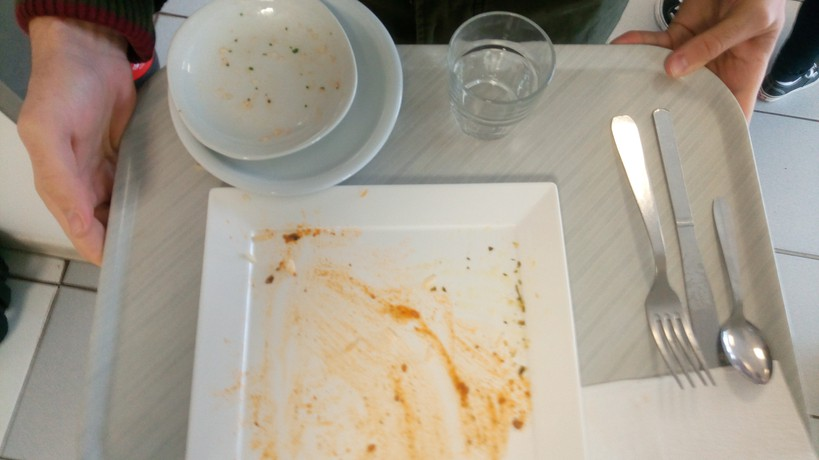cup: (426, 5, 564, 152)
cutlery: (606, 103, 701, 393), (653, 104, 731, 379), (711, 195, 788, 392)
trash: (589, 357, 816, 460)
